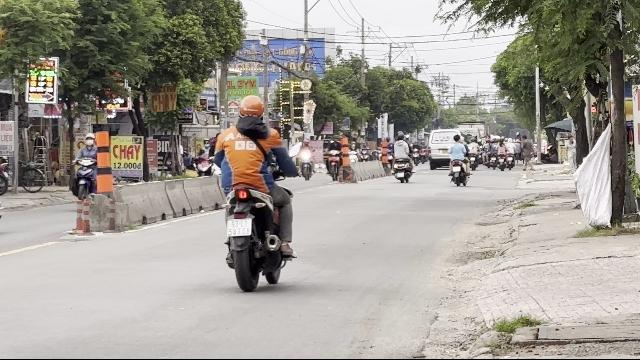helmet: (237, 94, 265, 124)
licenseplate: (226, 219, 252, 237)
motorcyclist: (210, 93, 300, 290)
